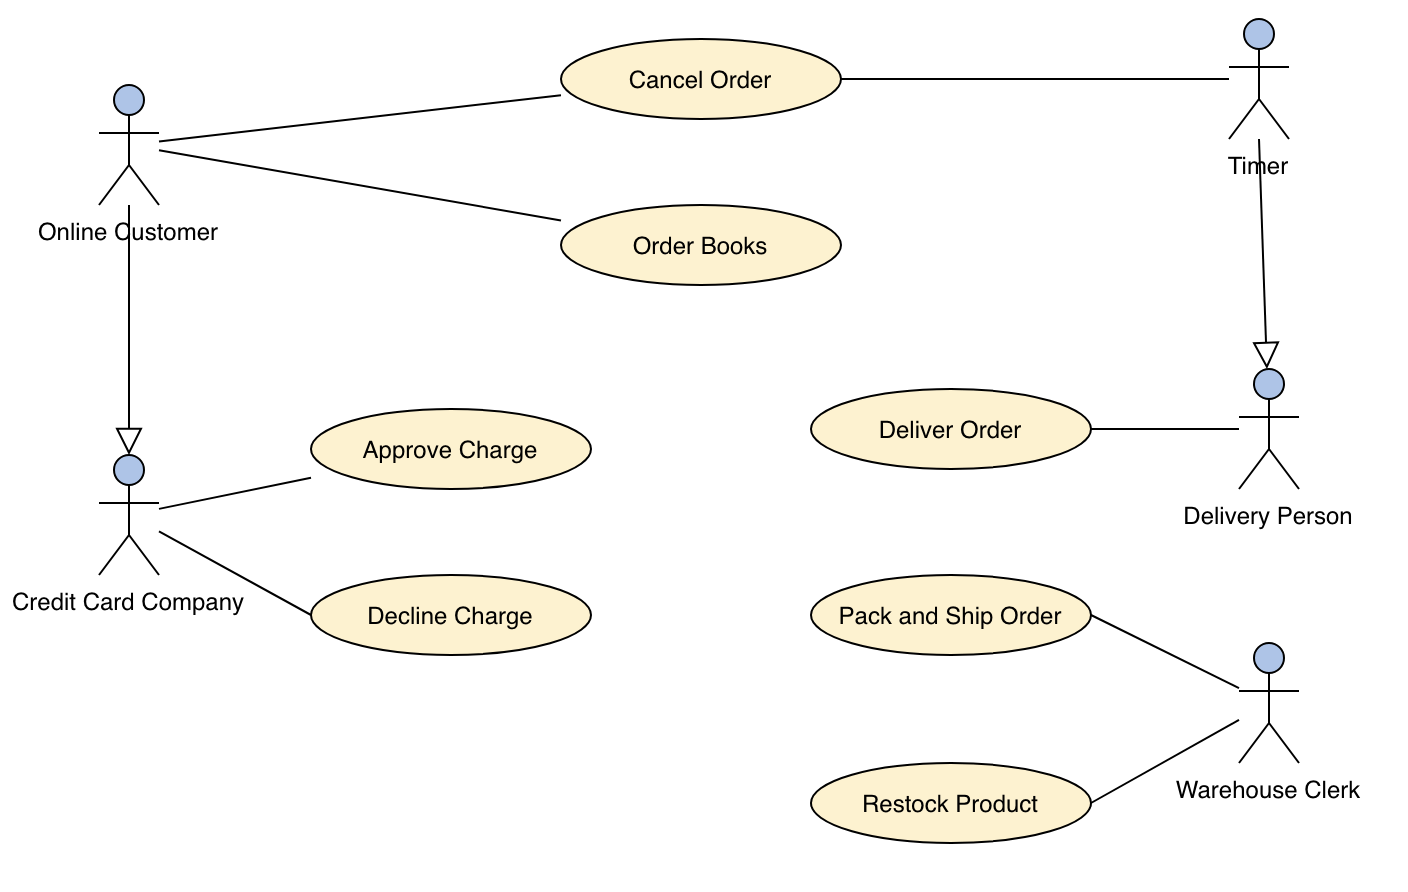actor: (1238, 638, 1309, 770), (95, 82, 164, 211), (97, 452, 164, 580), (1236, 370, 1304, 492), (1233, 17, 1292, 142)
association: (158, 147, 561, 225), (155, 92, 563, 148), (161, 528, 310, 615), (1091, 718, 1242, 803), (1091, 611, 1240, 692), (844, 71, 1233, 87), (157, 473, 314, 512), (1092, 418, 1242, 441)
generalization: (1250, 134, 1281, 369), (114, 204, 142, 454)
text: (11, 584, 250, 624), (828, 602, 1064, 631), (361, 599, 547, 635), (1171, 500, 1355, 536), (31, 212, 220, 247), (625, 224, 777, 265), (1171, 774, 1366, 806), (624, 59, 776, 99), (853, 790, 1048, 819), (359, 434, 540, 464), (879, 412, 1024, 445), (1225, 152, 1297, 181)
use_case: (555, 203, 843, 290), (308, 572, 591, 659), (810, 386, 1093, 472), (304, 406, 590, 492), (560, 37, 842, 122), (812, 761, 1093, 846), (809, 571, 1093, 655)
